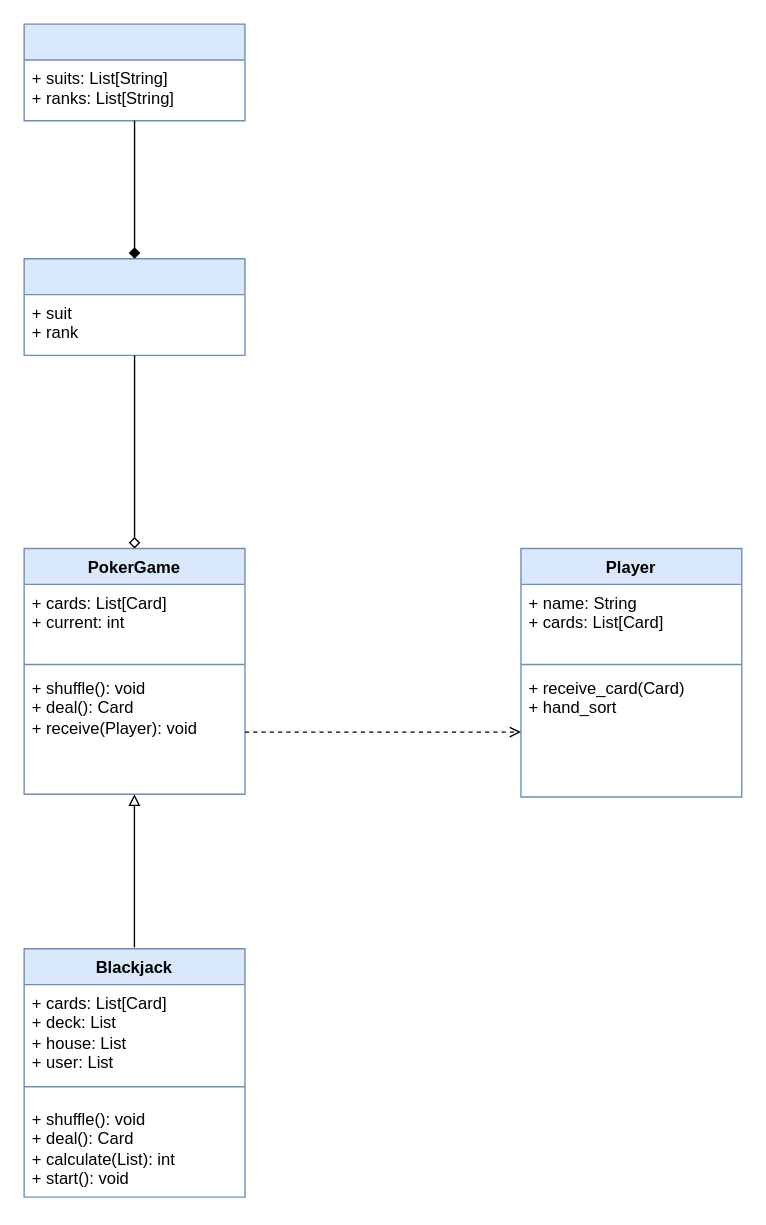
The diagram is 766 pixels wide and 1225 high, and some of its shapes have lost their labels. Here are the shapes that lost their labels. From the top down, the box of each, then its label:
(23, 23, 245, 121): Face
(23, 257, 245, 355): Card
